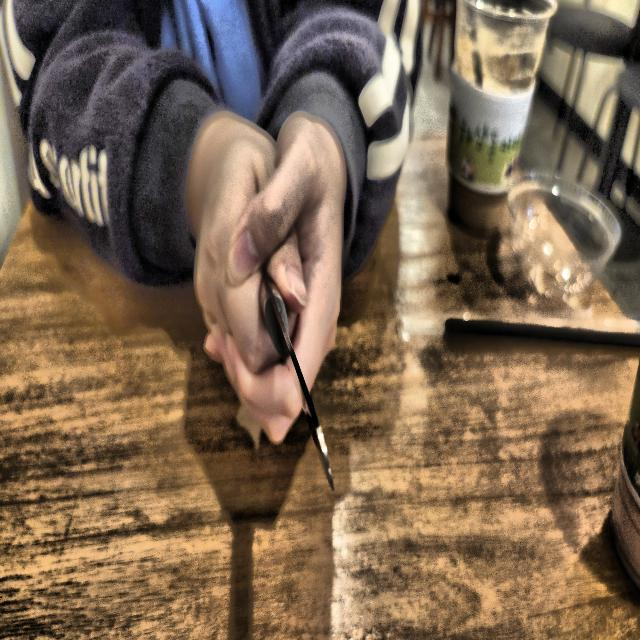knife: (261, 261, 335, 492)
